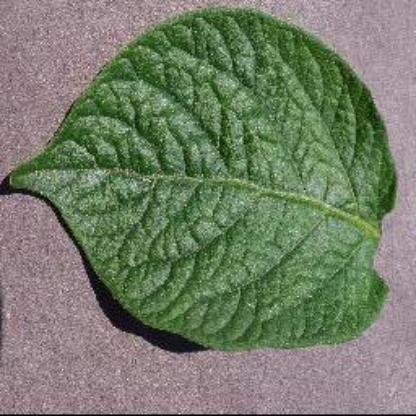Healthy-plant: (2, 3, 404, 351)
